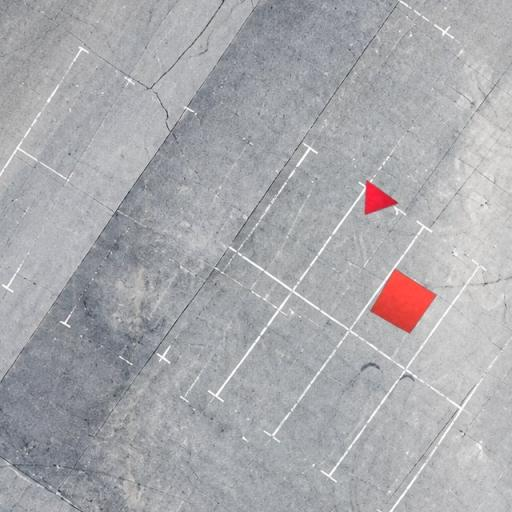RED_SQUARE: (370, 268, 438, 334)
